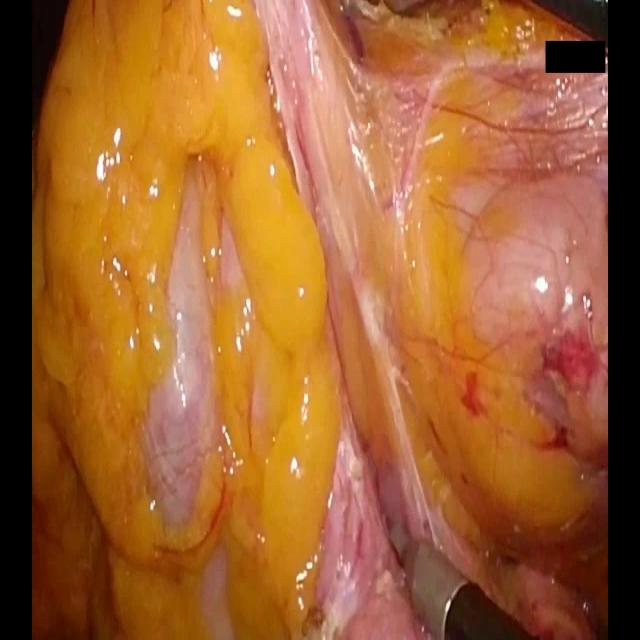surgical-area: (29, 1, 608, 639)
surgical-tool: (387, 519, 540, 639)
